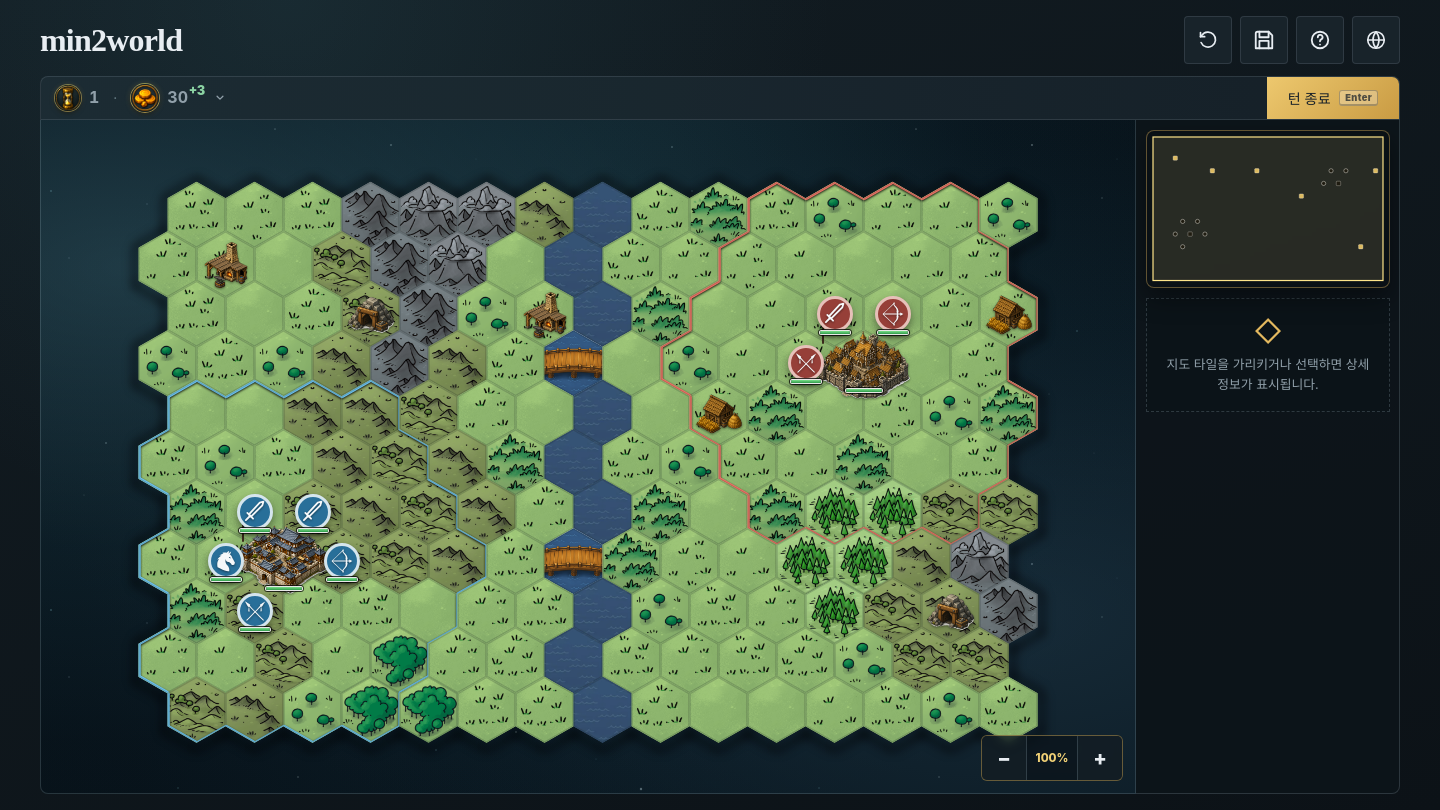
Test: Milestone 07 UI › reopens the first-turn guide from Help
Click the button named "도움말" at [1320, 40], box [1296, 16, 1344, 64]
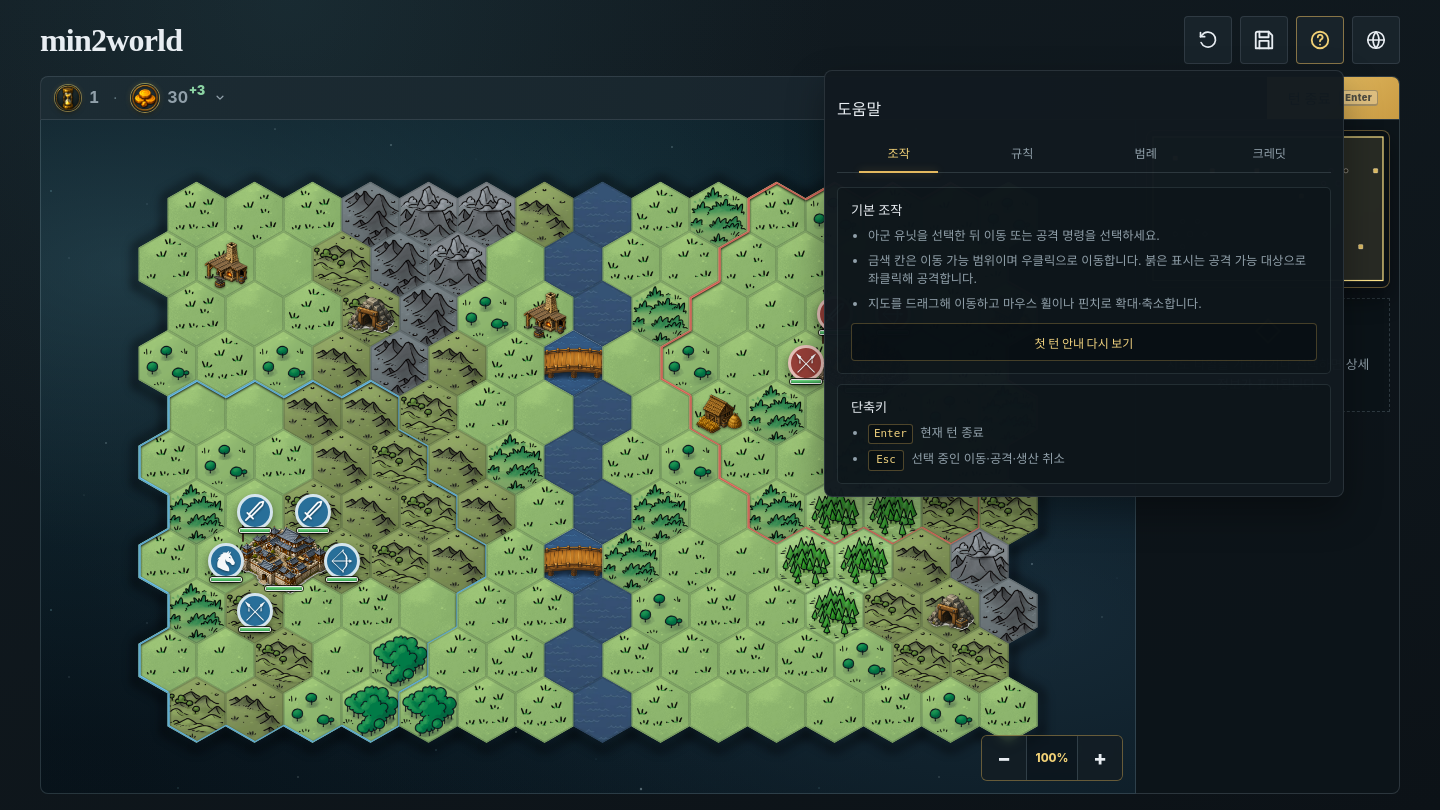
Click the button "첫 턴 안내 다시 보기" at [1084, 342], box [851, 323, 1317, 361]
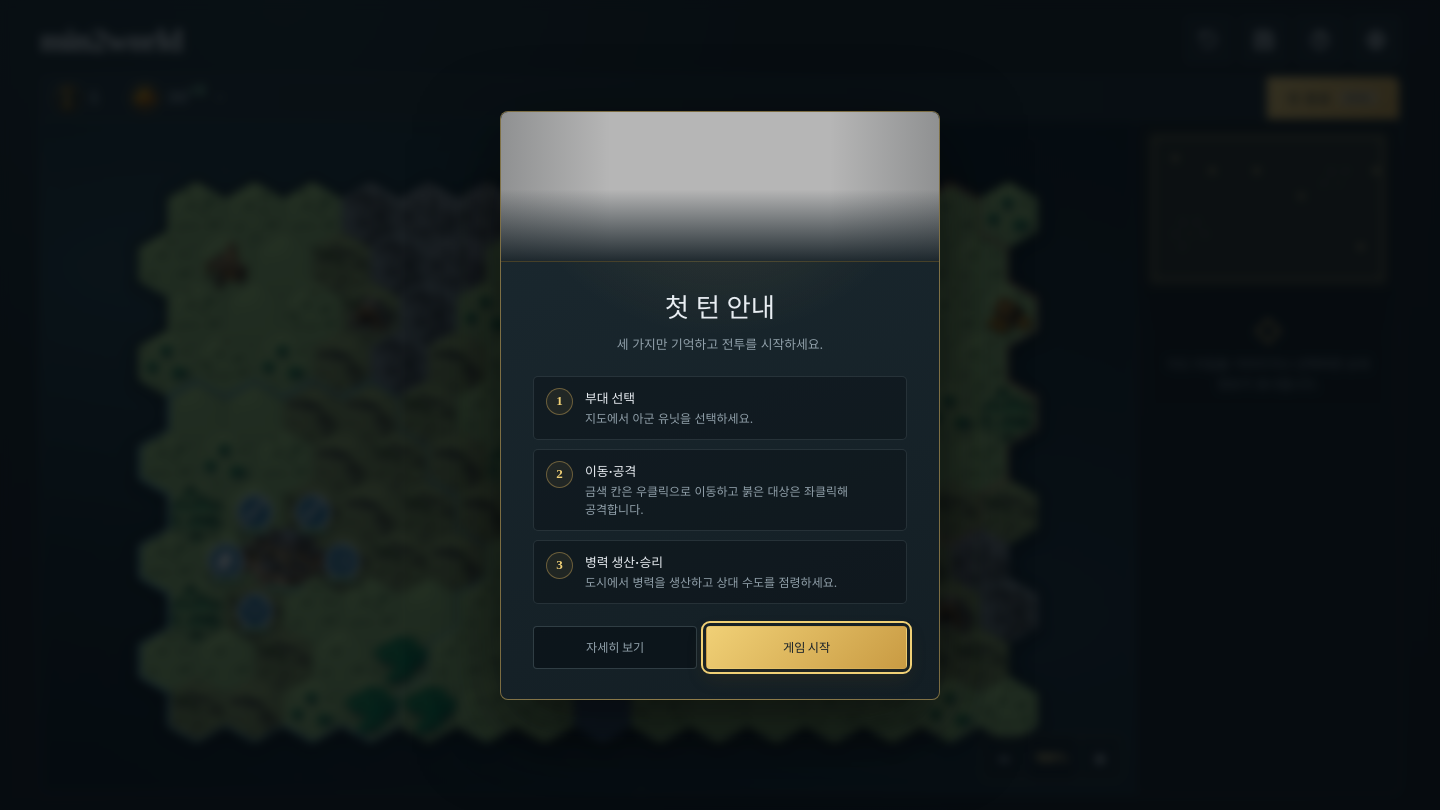
Now the heading "도움말" is gone
Now the dialog "첫 턴 안내" is shown, box [500, 110, 940, 700]
